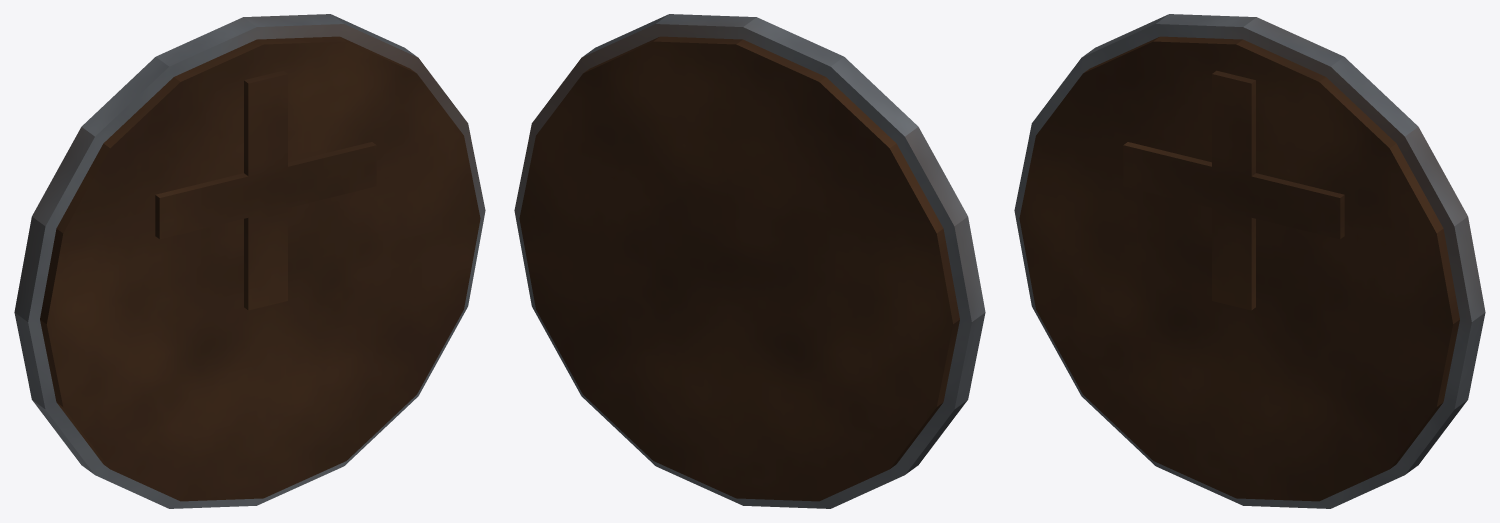
File: crest_freetown.fbx
The picture shows the model from 3 angles, left to right: view 1: azimuth 30°, elevation 25°; view 2: azimuth 150°, elevation 25°; view 3: azimuth 330°, elevation 25°; orthographic projection.
Visible parts, largest first — view 1: crest_freetown; view 2: crest_freetown; view 3: crest_freetown.
Boxes of the visible parts, <box> form: crest_freetown: <box>14,14,485,508</box>; crest_freetown: <box>514,14,985,508</box>; crest_freetown: <box>1014,14,1485,508</box>.
Bounding box in the file's own units: 1.16 × 1.16 × 0.14.
